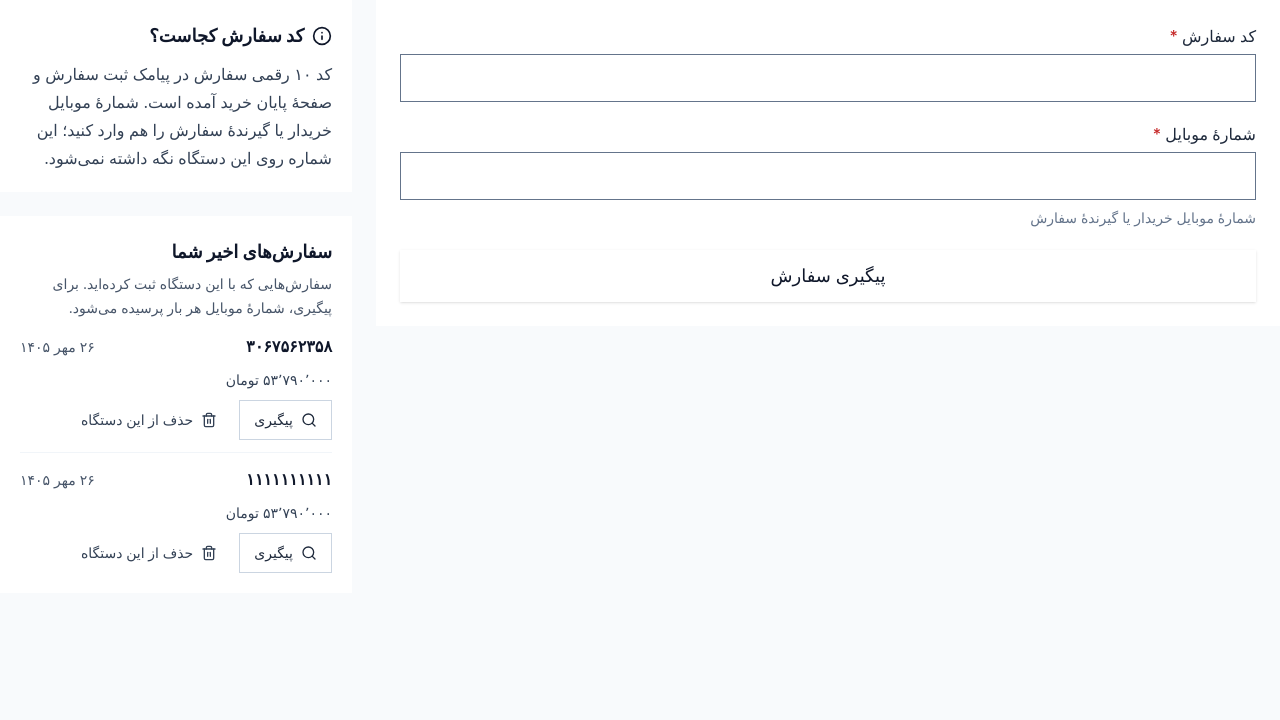
it: the recent guest orders of this device › «حذف از این دستگاه» forgets that one order, says so, and keeps the focus in the list
What coordinates should you click on to do the following:
click the button "حذف از این دستگاه" below "۳۰۶۷۵۶۲۳۵۸"
I would click on:
 (149, 420)
Its box is [67,400,231,440].
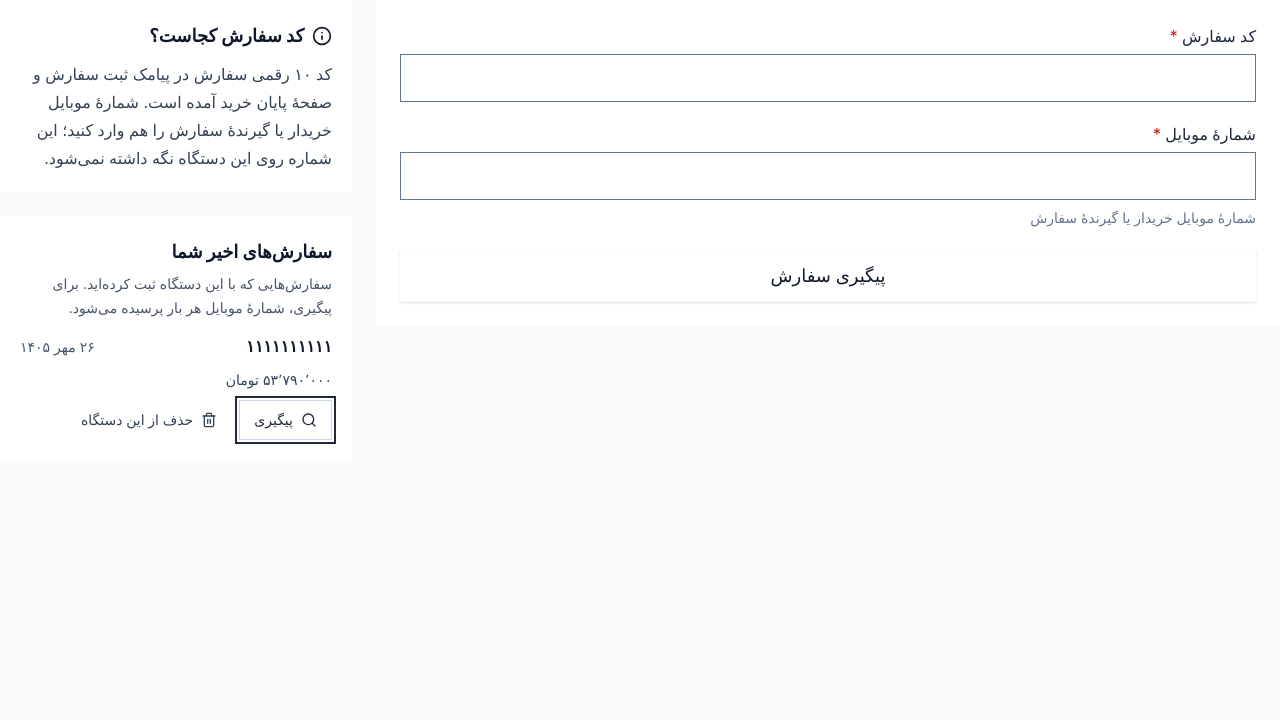
Check: the number of list items is 1, box [20,332,332,440]
